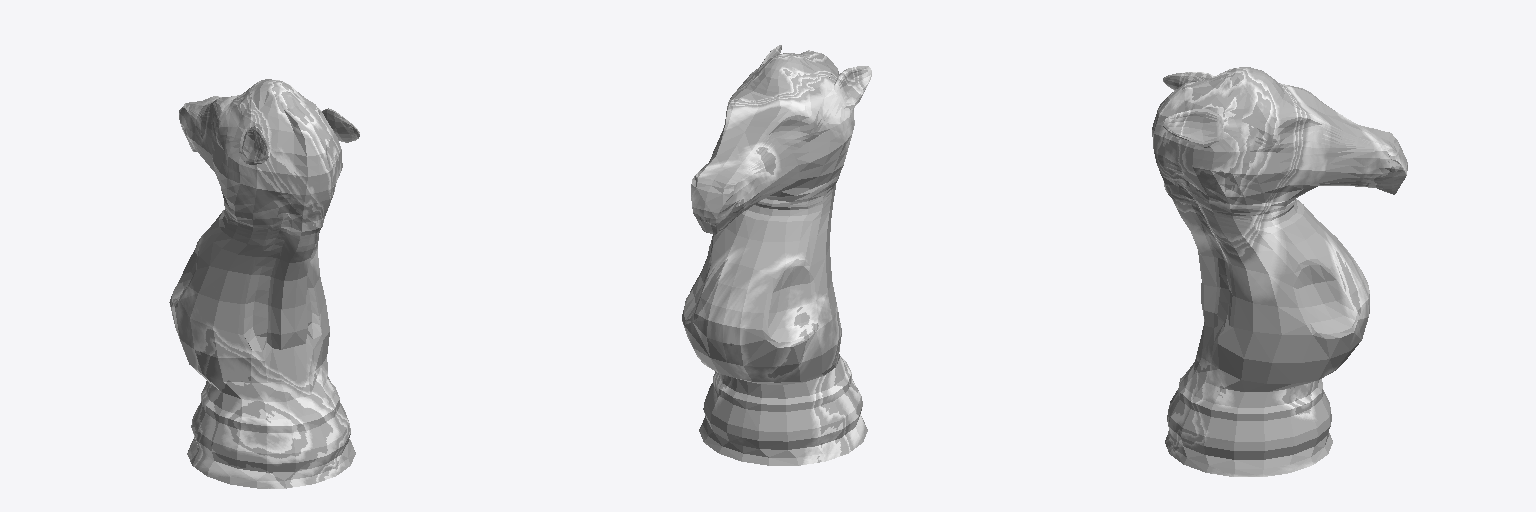
3 renders of one model, left to right at view 1: azimuth 30°, elevation 25°; view 2: azimuth 150°, elevation 25°; view 3: azimuth 270°, elevation 25°, orthographic.
Parts seen in each view (by area): view 1: knight001_L0_Cylinder.003; view 2: knight001_L0_Cylinder.003; view 3: knight001_L0_Cylinder.003.
Part boxes in pixels (x1,y1,x2,y2): knight001_L0_Cylinder.003: (169, 79, 359, 488); knight001_L0_Cylinder.003: (682, 45, 871, 465); knight001_L0_Cylinder.003: (1152, 67, 1407, 476).
Bounding box in the file's own units: 0.7173 × 1.77 × 1.1.
1 materials, 1 textured.